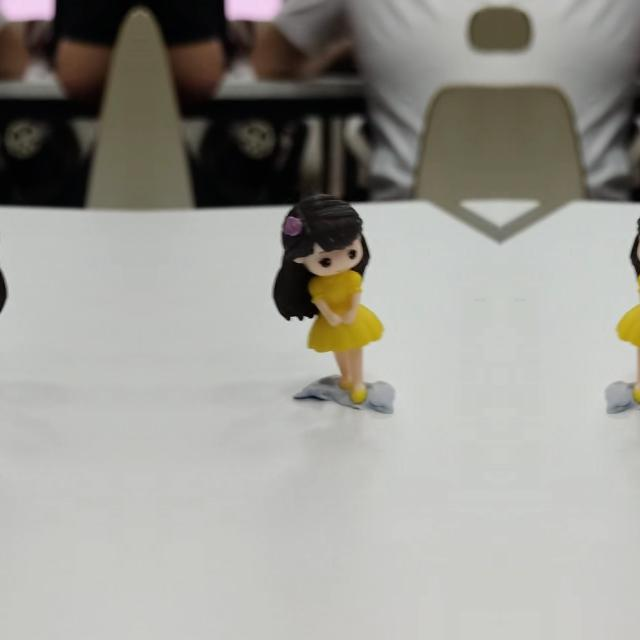woman head: (276, 189, 369, 281), (630, 189, 640, 281), (0, 189, 3, 281)
